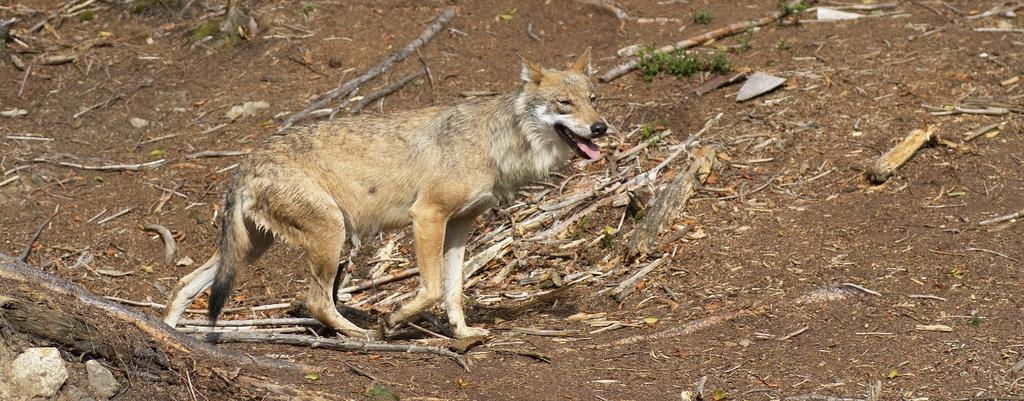Wolf: (168, 43, 613, 355)
